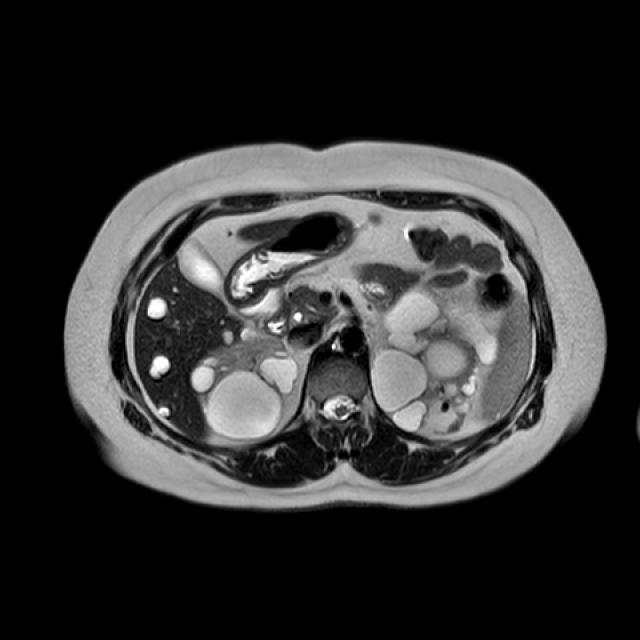sag: (190, 325, 299, 442)
sol: (368, 284, 501, 437)
